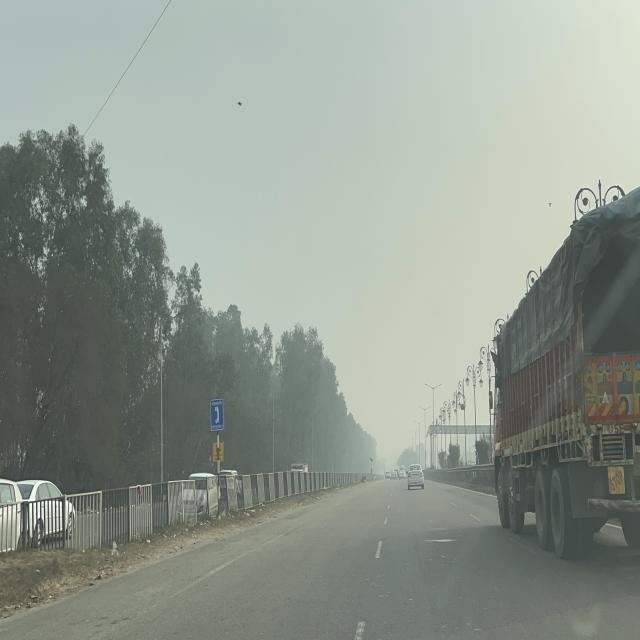INFORMATION: (210, 398, 223, 432)
